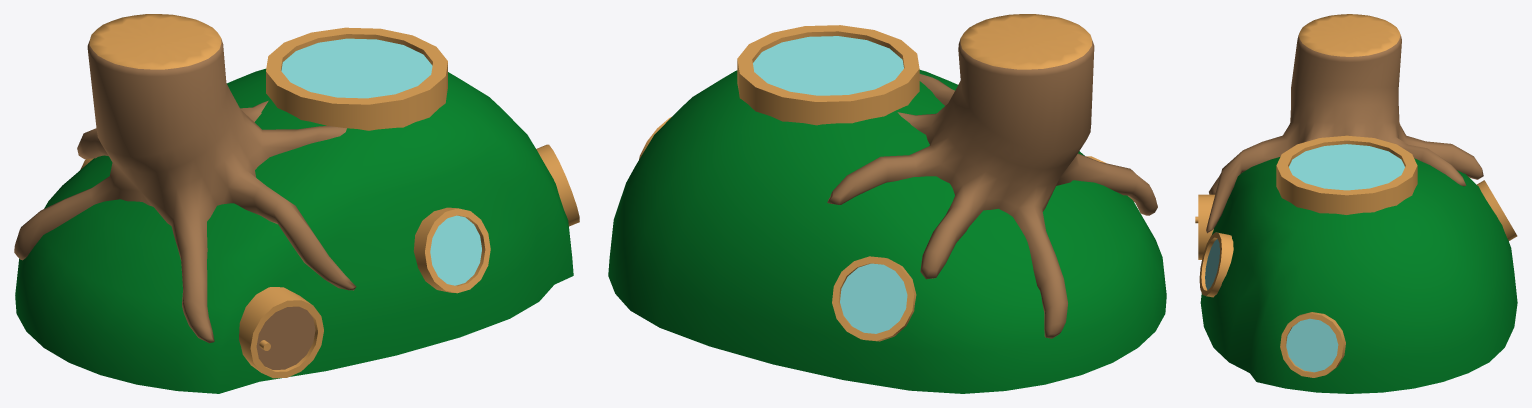
The model's file is Hobbit_Version2 1.fbx.
The picture shows the model from 3 angles, left to right: view 1: azimuth 30°, elevation 25°; view 2: azimuth 150°, elevation 25°; view 3: azimuth 270°, elevation 25°; orthographic projection. The views are drawn at different scales.
Parts seen in each view (by area): view 1: Cube.001; view 2: Cube.001; view 3: Cube.001.
Part boxes in pixels (<box>): Cube.001: <box>14,14,579,393</box>; Cube.001: <box>608,14,1166,393</box>; Cube.001: <box>1195,14,1517,393</box>.
Bounding box in the file's own units: 686 × 362 × 491.
